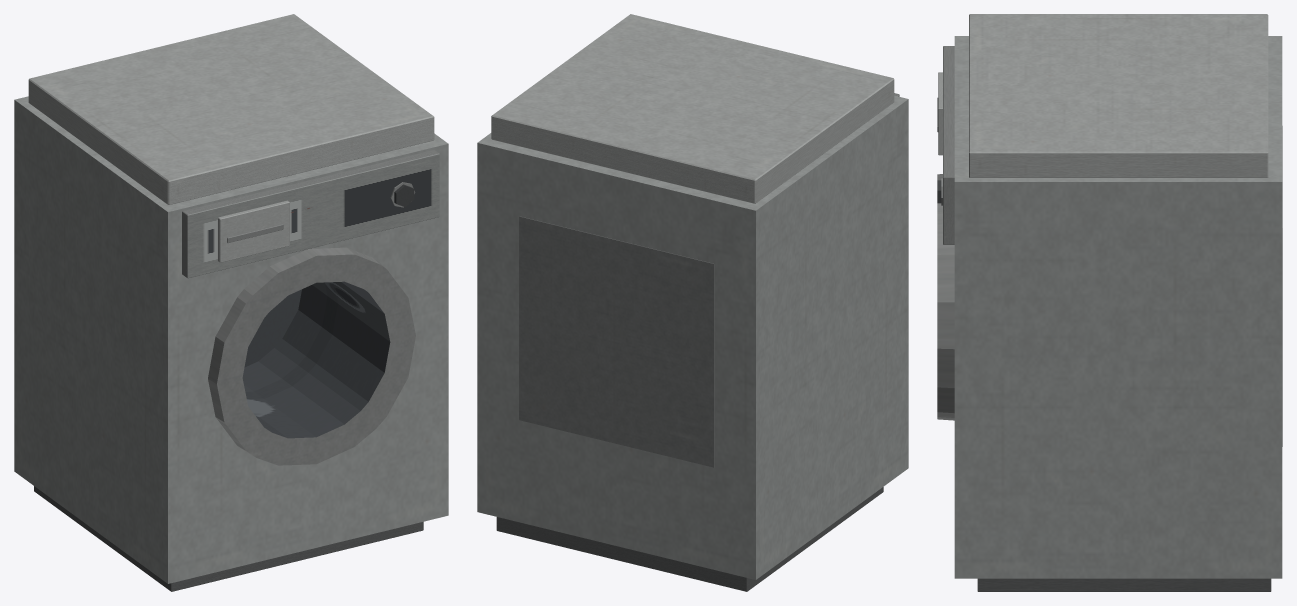
Rendered from washing_machine.glb.
3 views of the same model, side by side, from view 1: azimuth 30°, elevation 25°; view 2: azimuth 150°, elevation 25°; view 3: azimuth 270°, elevation 25° (orthographic). The views are drawn at different scales.
Parts seen in each view (by area): view 1: core_washing_machine; view 2: core_washing_machine; view 3: core_washing_machine.
Part boxes in pixels (x1,y1,x2,y2): core_washing_machine: (14, 14, 448, 591); core_washing_machine: (477, 14, 908, 591); core_washing_machine: (937, 14, 1282, 591).
Size of the model in its own units: 0.6 by 0.85 by 0.6.
1 material, 1 textured.
